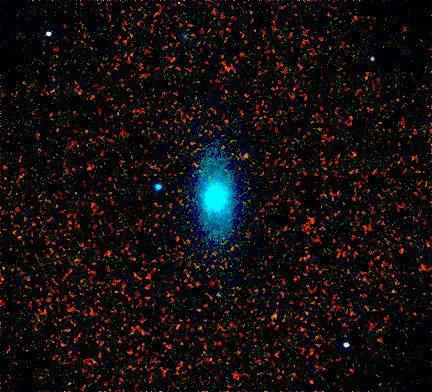star: (232, 141, 262, 171)
